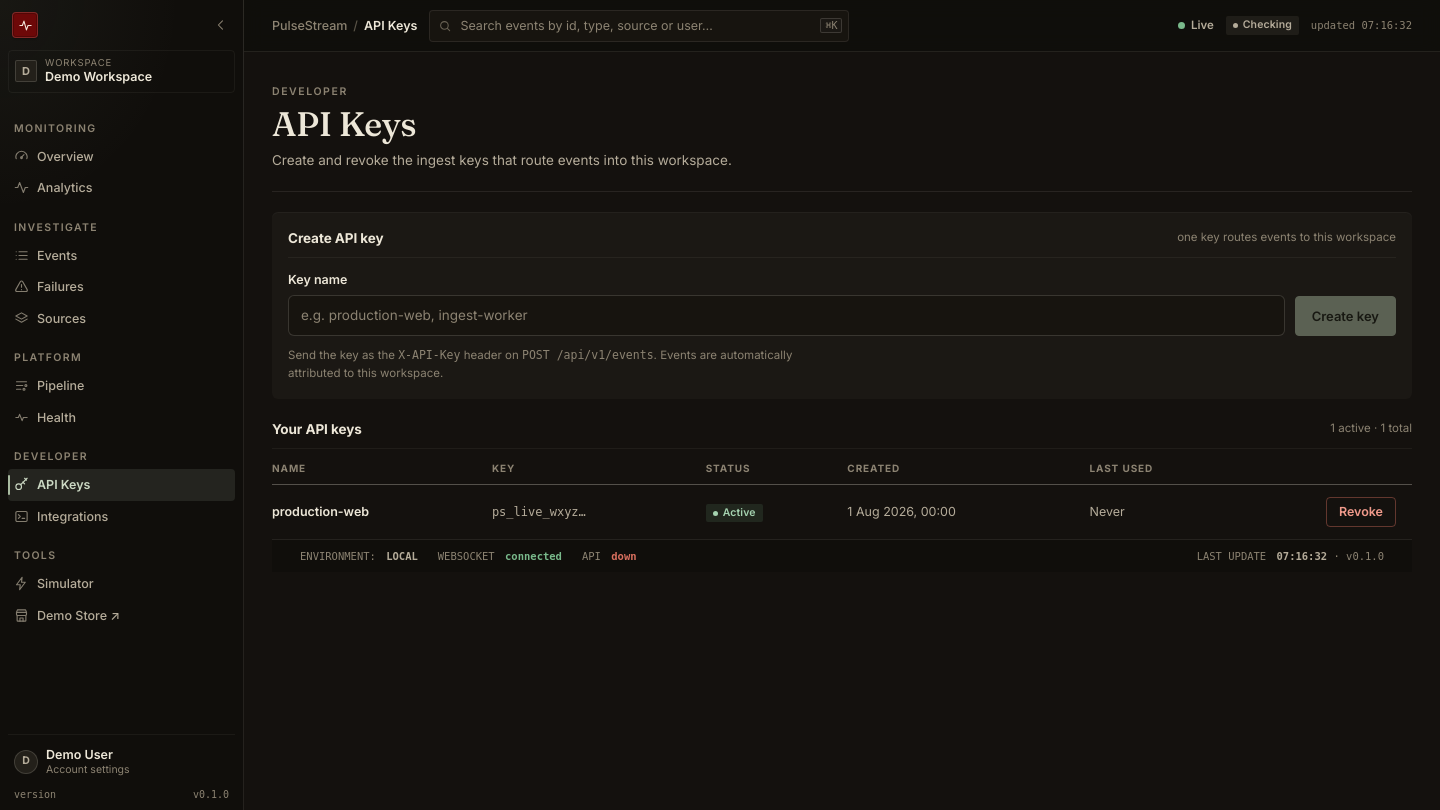
Test: API Keys page › cancels a revoke without changing the key
This screenshot has width=1440, height=810.
What coordinates should you click on to do the following:
click the button with aria-label "Revoke production-web"
I would click on:
 (1361, 512)
Its box is top-left (1326, 497), bottom-right (1396, 527).
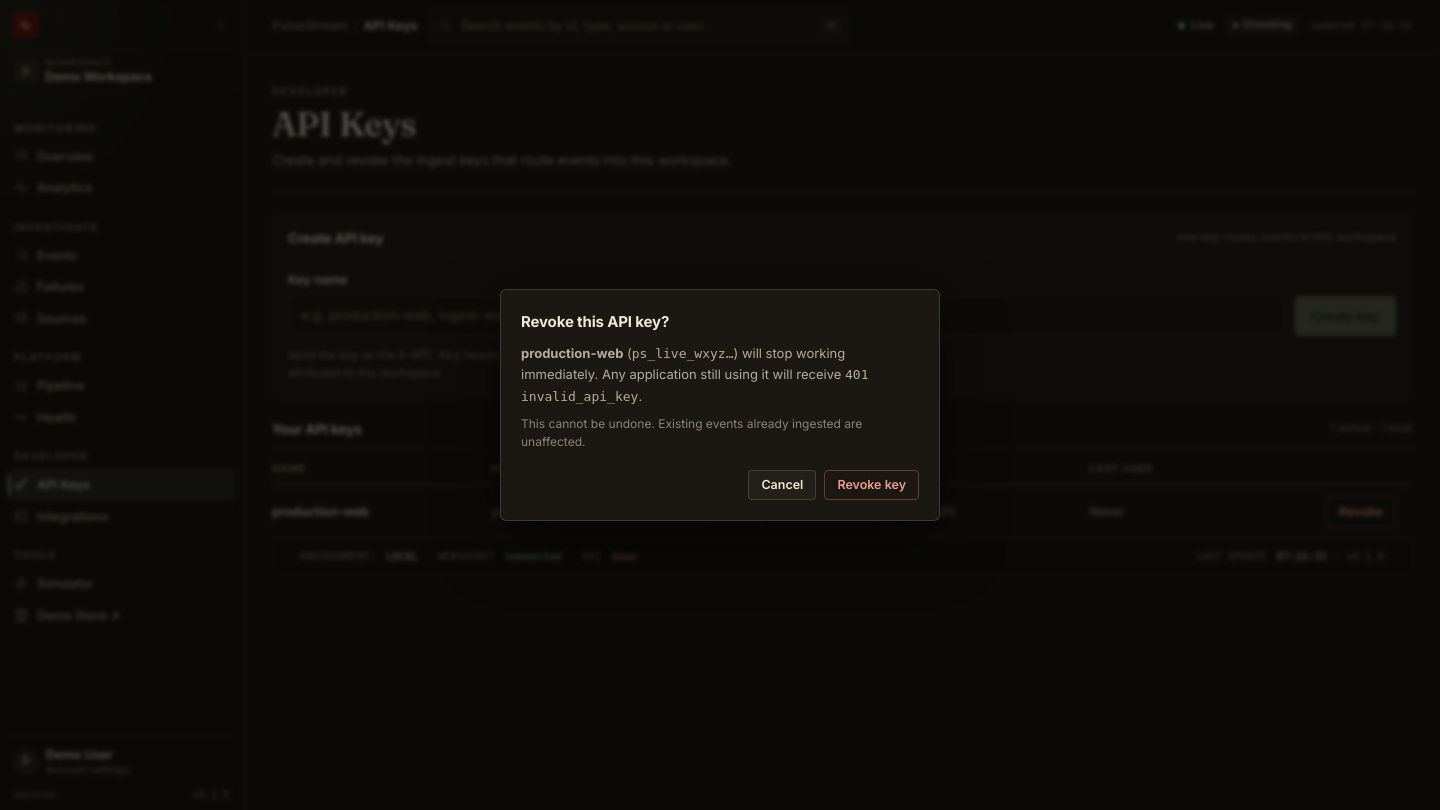
What coordinates should you click on to do the following:
click the button "Cancel"
I would click on:
 (782, 485)
Its box is top-left (748, 470), bottom-right (816, 500).
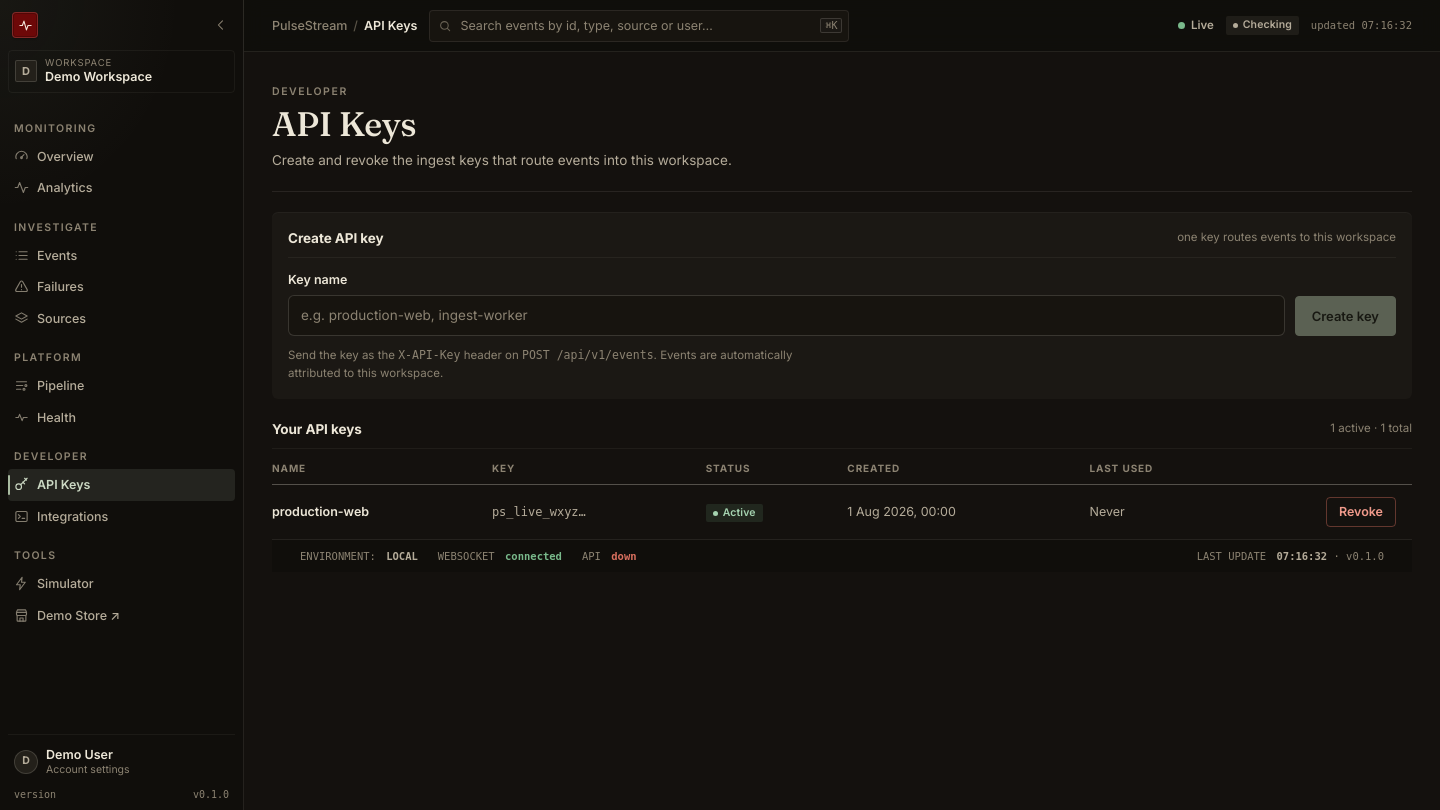
Expected: the text "Active" is shown, top-left (706, 504), bottom-right (763, 522)
Expected: the dialog is gone
